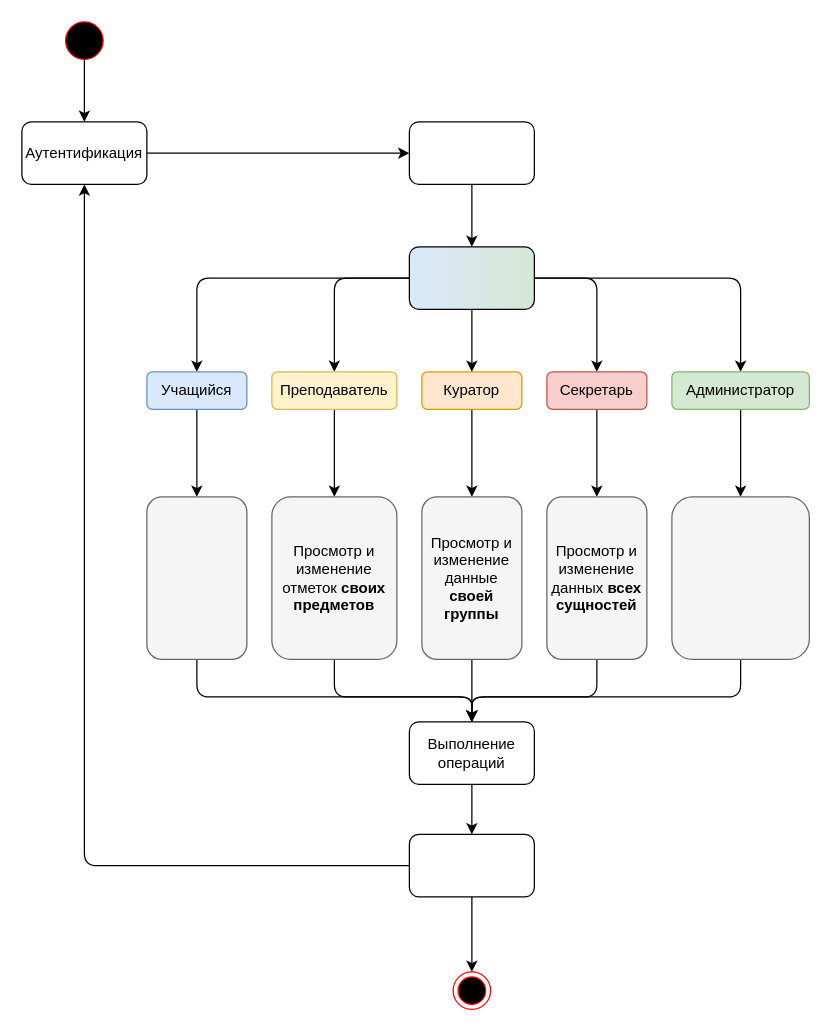
The diagram is 831 pixels wide and 1031 high, and some of its shapes have lost their labels. Each missing label, with the centre of its shape:
"Авторизация" goes at (x=471, y=152).
"Завершение работы системы" goes at (x=471, y=865).
"Определение ролей" goes at (x=471, y=277).
"Полное управление работой и состоянием" goes at (x=740, y=577).
"Просмотр личных данных и успевае-мости своего аккаунта" goes at (x=196, y=577).
